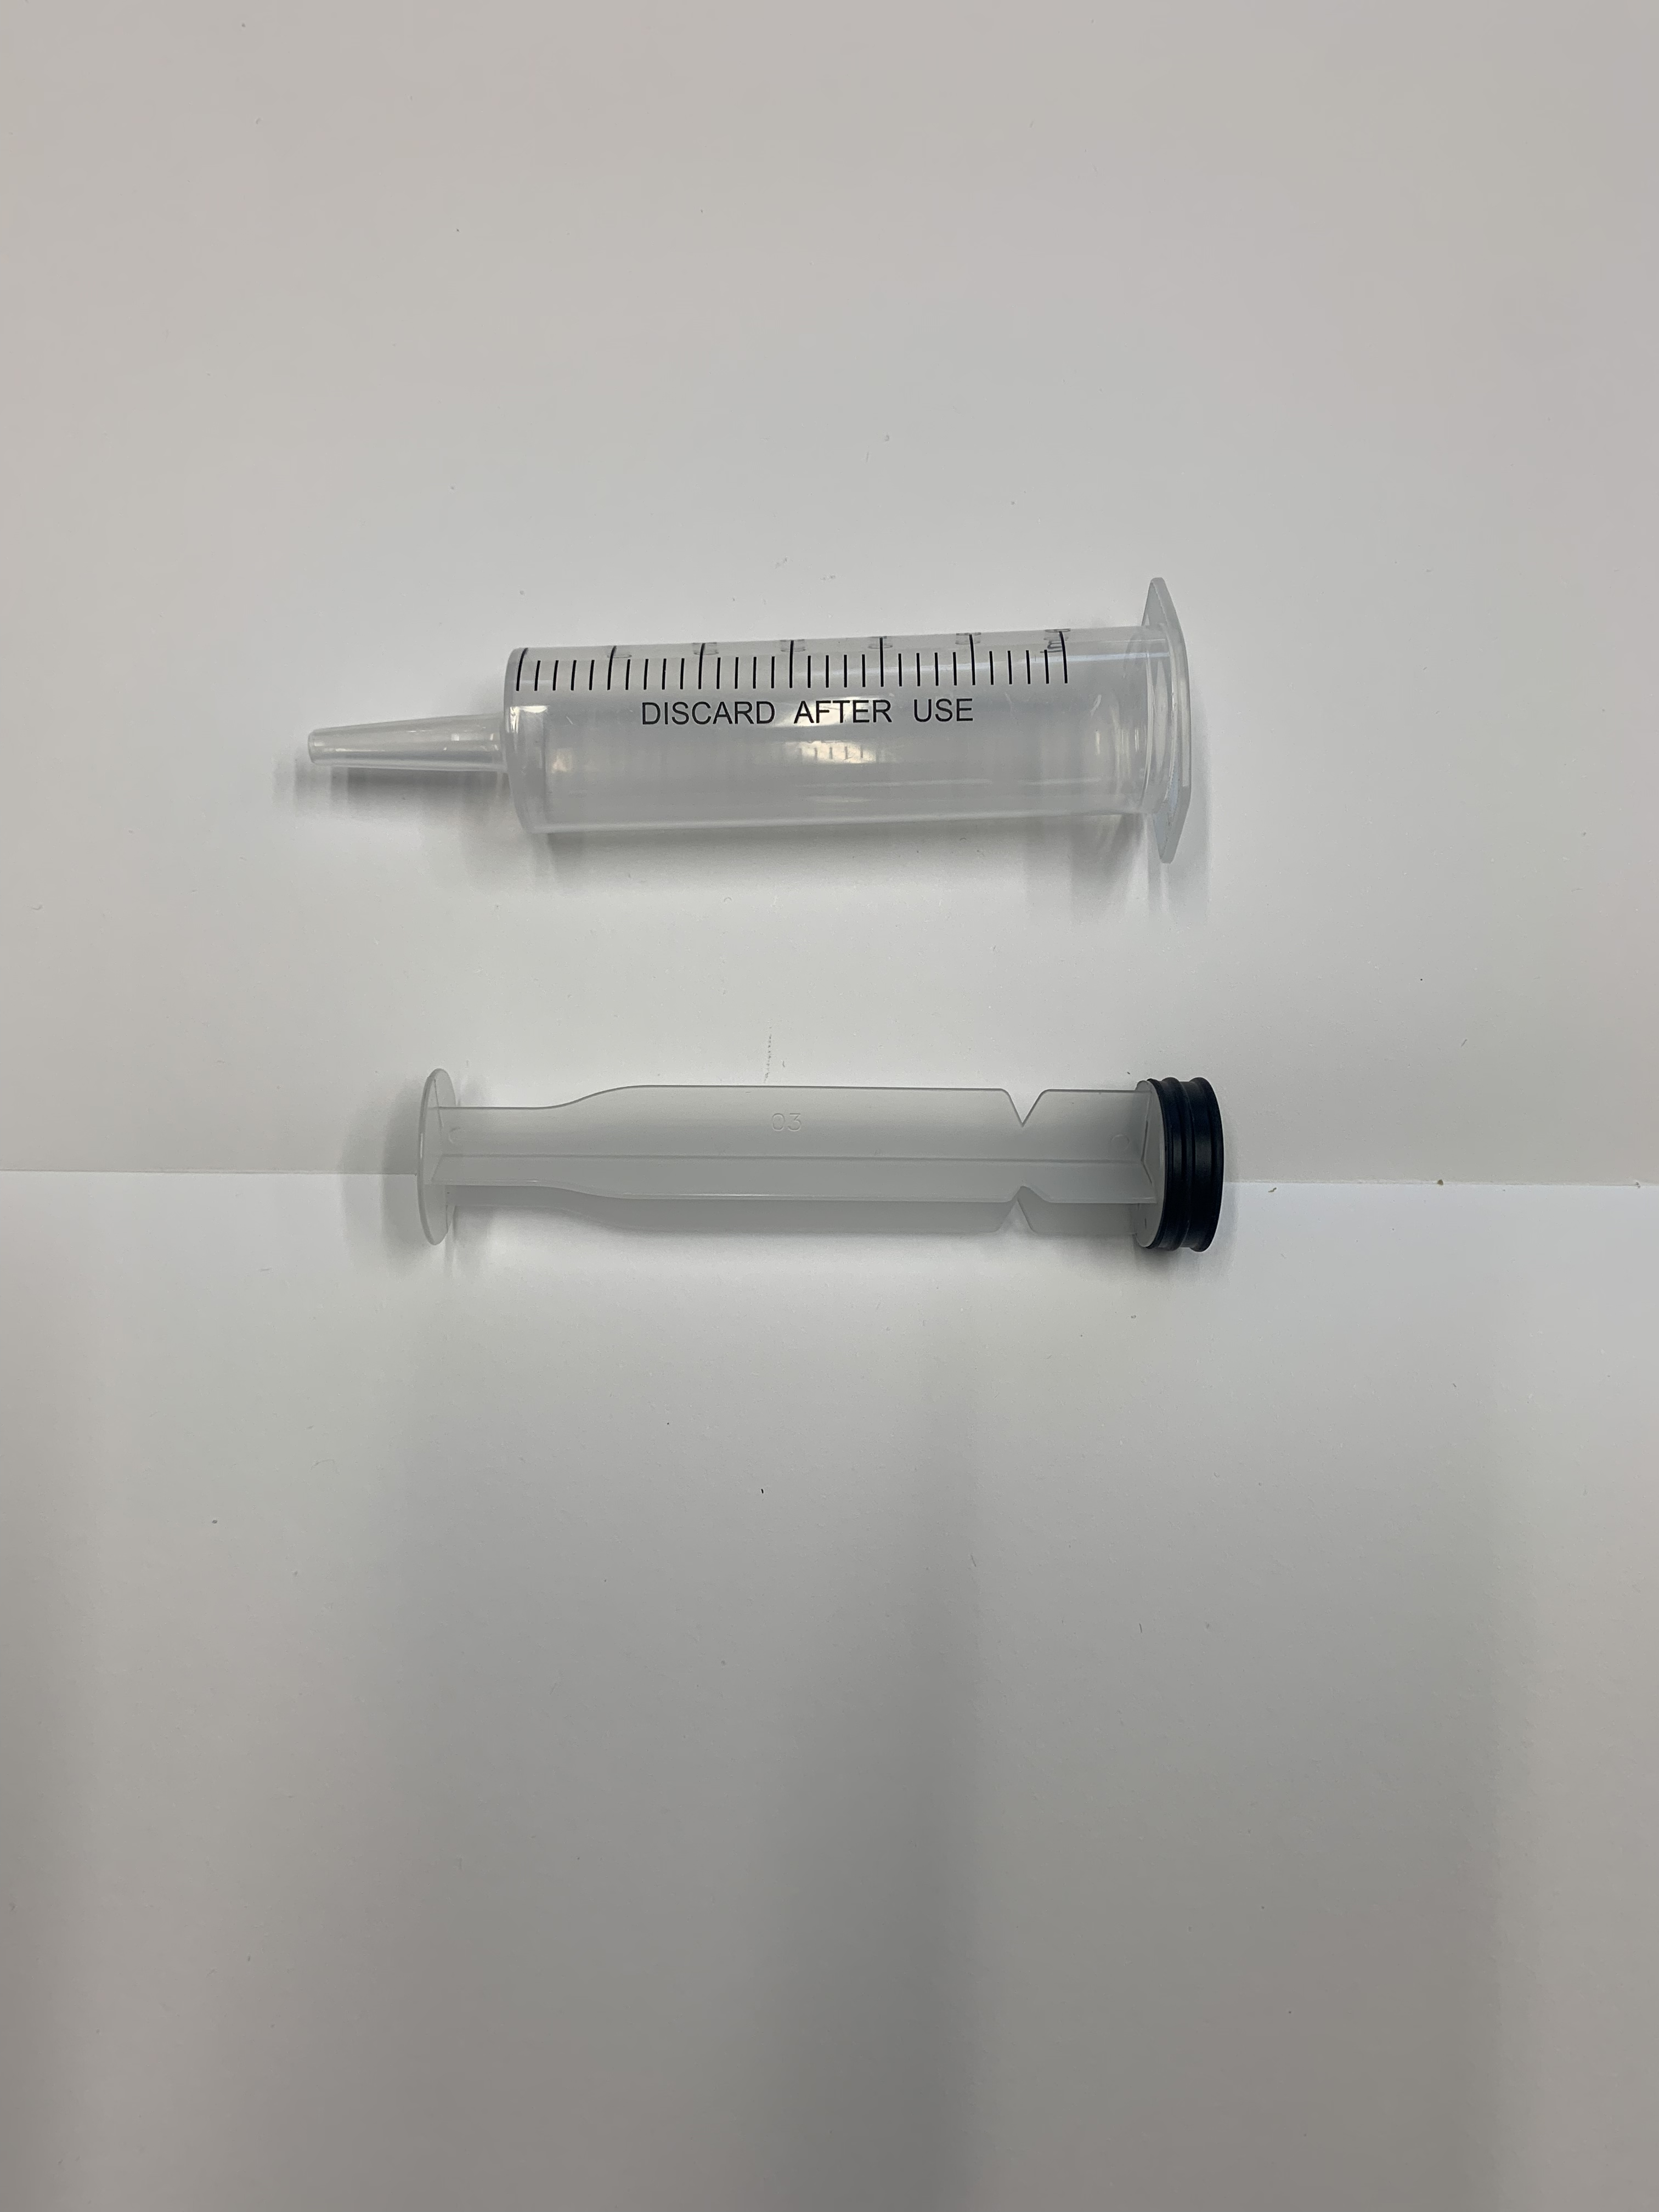plunger: (389, 1047, 1229, 1264)
syringe: (296, 577, 1222, 867)
